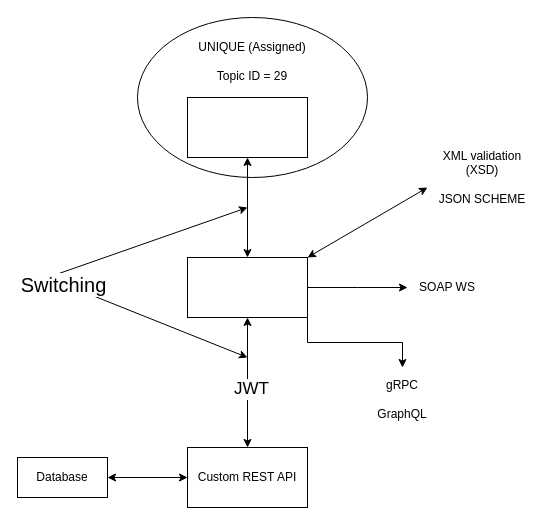
This 555x525 diagram has some shape labels left out. The shapes that lost their labels are listed below. From the top down, each one's centre as x and y in pixels, then its label:
[247,127]: External REST API
[247,287]: Desktop / Web app
